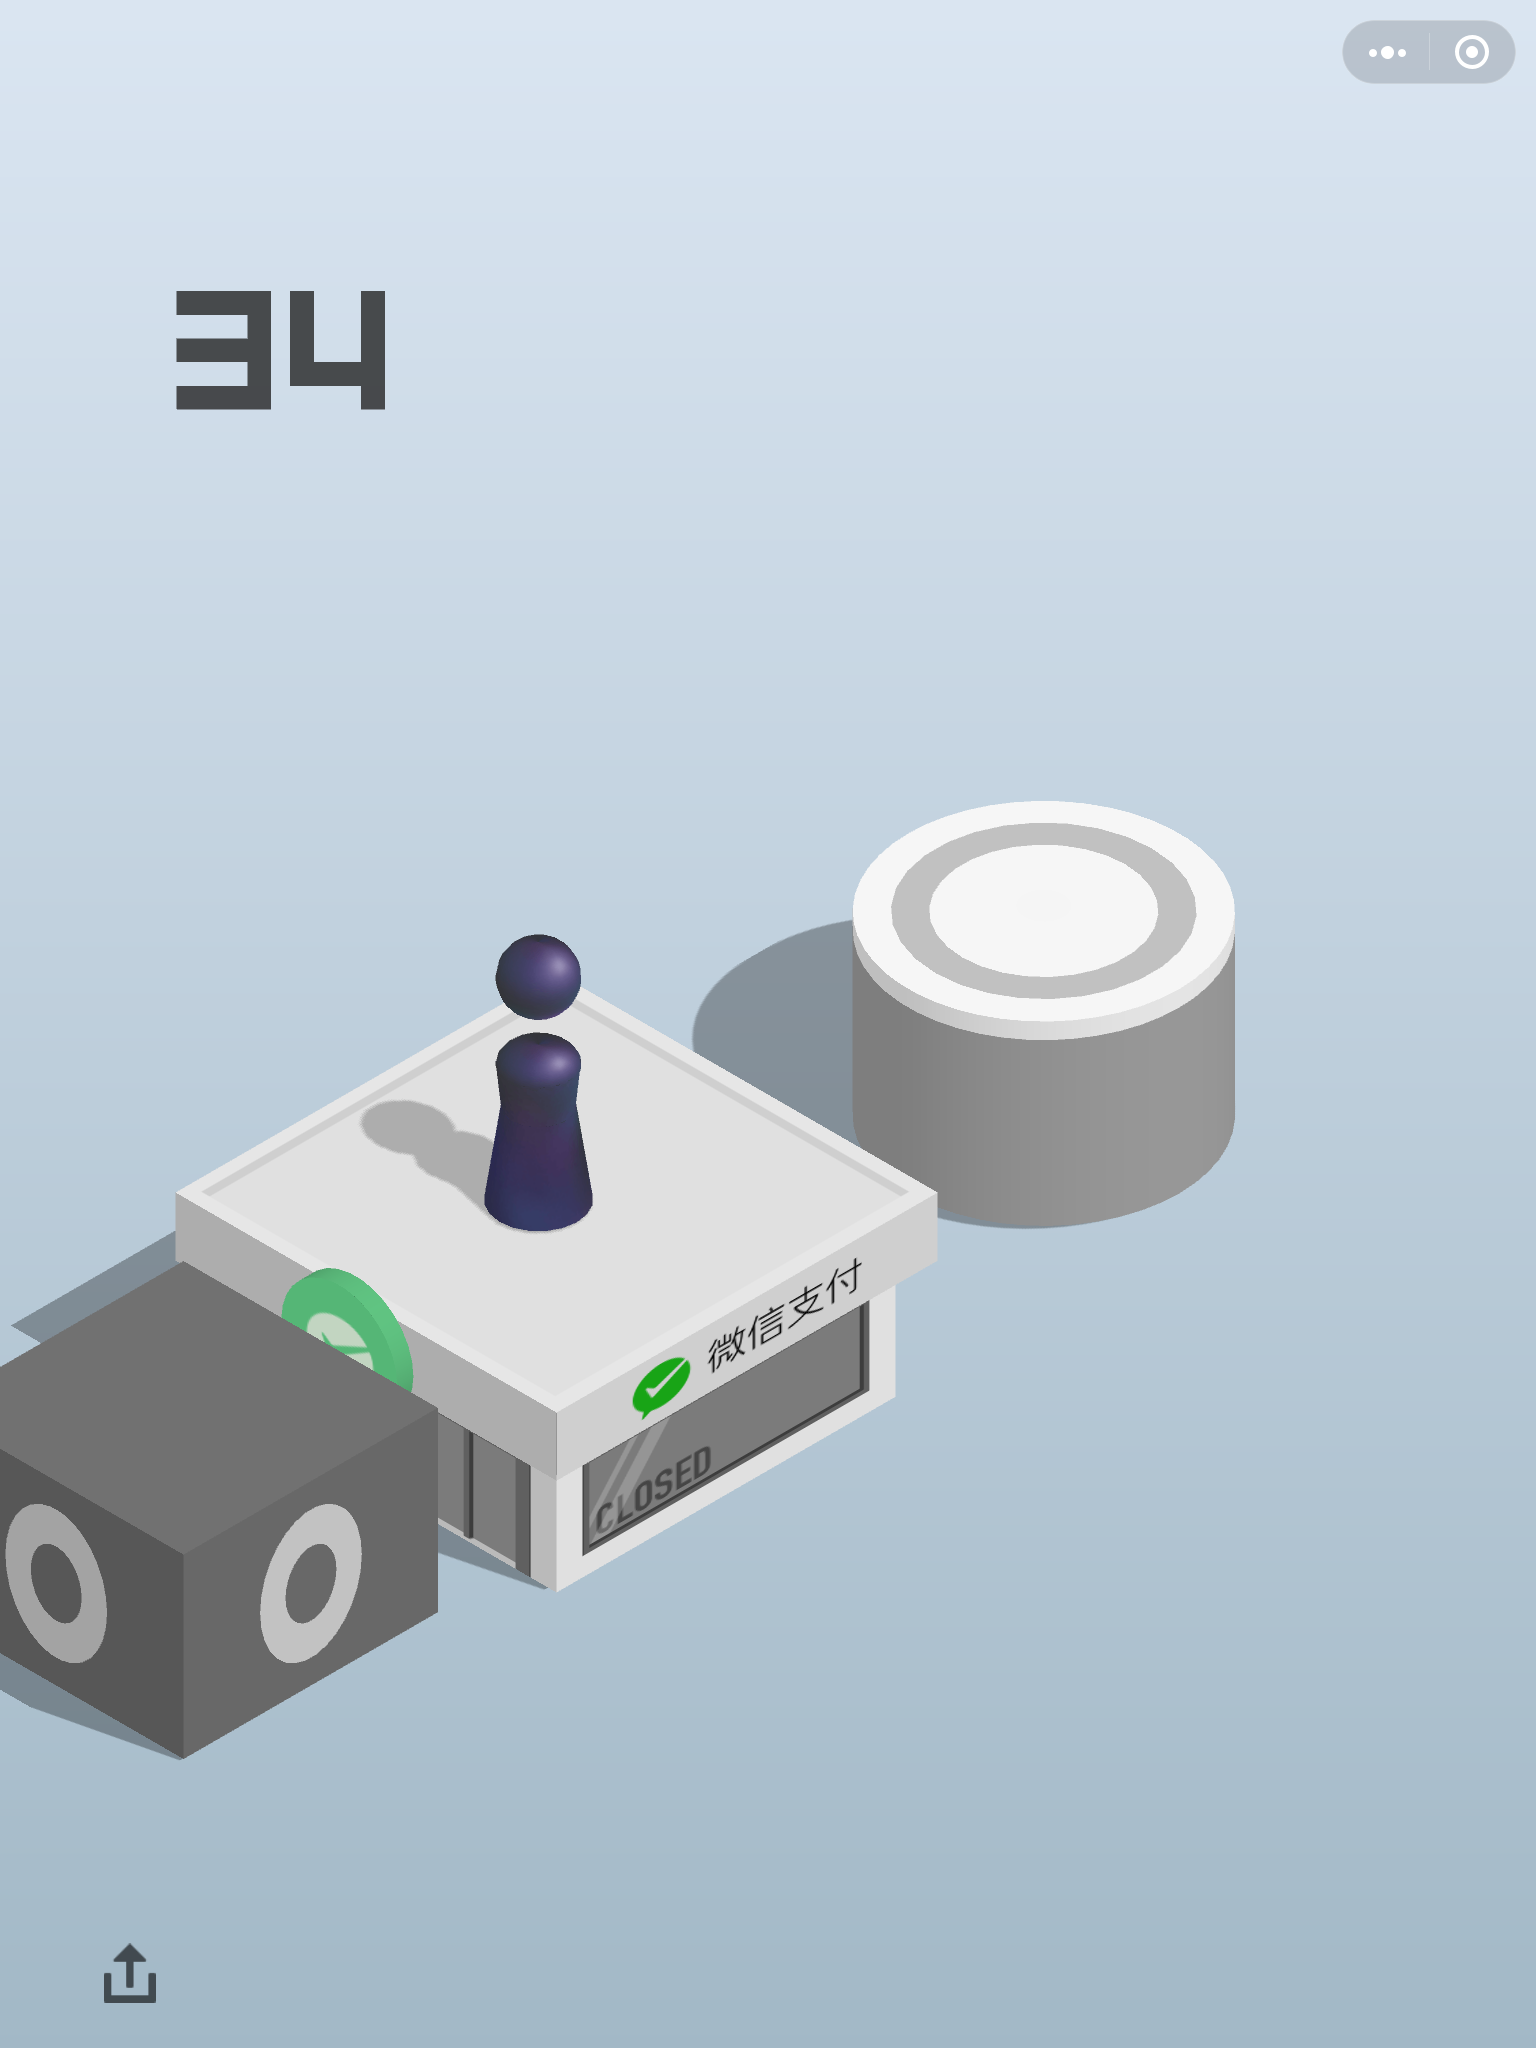c: (837, 777, 1249, 1256)
f: (160, 942, 952, 1614), (2, 1259, 447, 1767)
r: (466, 921, 615, 1264)
